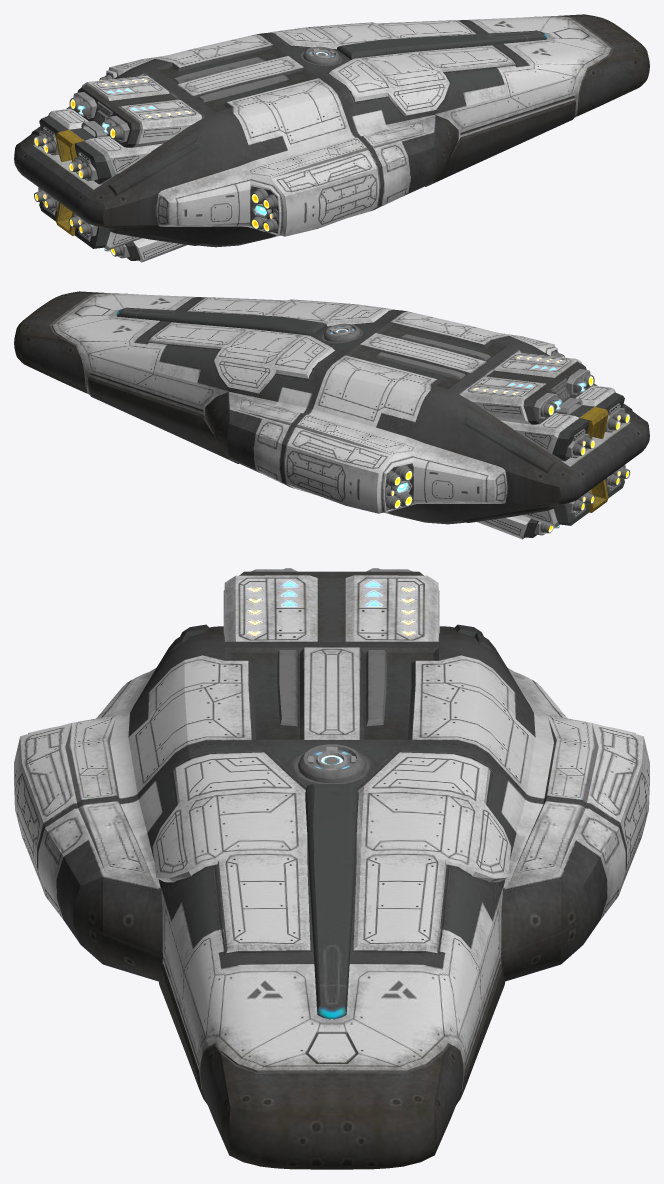
3 renders of one model, top to bottom at view 1: azimuth 30°, elevation 25°; view 2: azimuth 150°, elevation 25°; view 3: azimuth 270°, elevation 25°, orthographic. The views are drawn at different scales.
Visible parts, largest first — view 1: SUP_acce79be32c14c4fb9309567728a3; view 2: SUP_acce79be32c14c4fb9309567728a3; view 3: SUP_acce79be32c14c4fb9309567728a3.
Boxes of the visible parts, x1,y1,x2,y2 form: SUP_acce79be32c14c4fb9309567728a3: (14,14,649,262); SUP_acce79be32c14c4fb9309567728a3: (14,291,649,539); SUP_acce79be32c14c4fb9309567728a3: (14,568,649,1169).
Size of the model in its own units: 19.91 by 4.62 by 10.64.
Materials: 1 (1 with a texture image).
